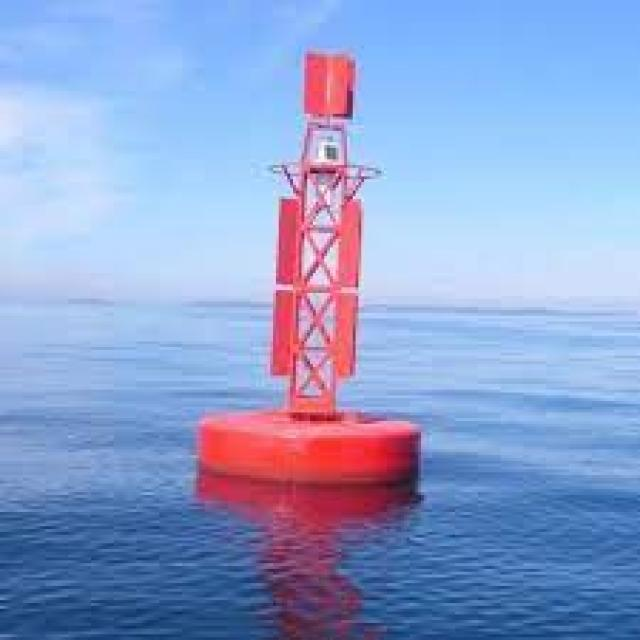marque: (185, 23, 444, 511)
